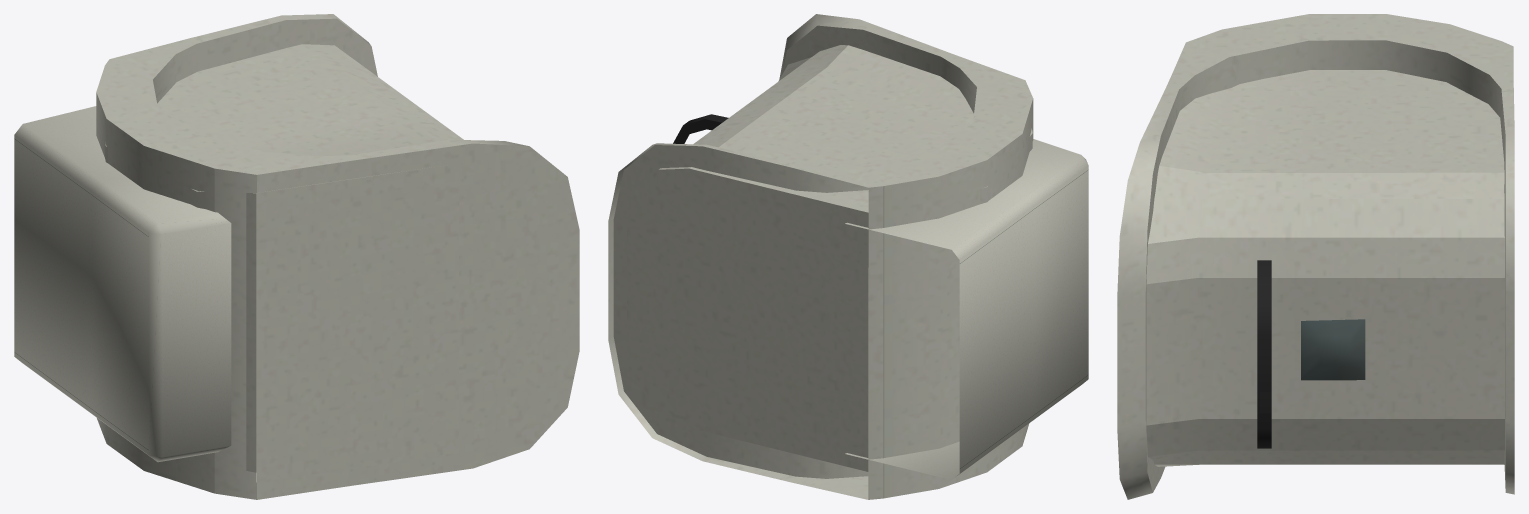
The model's file is nt_2020_robot_shed_LOD1.obj.
The picture shows the model from 3 angles, left to right: view 1: azimuth 30°, elevation 25°; view 2: azimuth 150°, elevation 25°; view 3: azimuth 270°, elevation 25°; orthographic projection. The views are drawn at different scales.
Parts seen in each view (by area): view 1: hjk_interior_plastic_tile; view 2: hjk_interior_plastic_tile, com_metal_chrome_trim; view 3: hjk_interior_plastic_tile, com_glass_clear, com_metal_chrome_trim.
Part boxes in pixels (left/top/right/bottom): hjk_interior_plastic_tile: left=14, top=14, right=579, bottom=499; hjk_interior_plastic_tile: left=608, top=14, right=1088, bottom=499; com_metal_chrome_trim: left=673, top=114, right=728, bottom=143; hjk_interior_plastic_tile: left=1117, top=14, right=1514, bottom=499; com_glass_clear: left=1301, top=319, right=1365, bottom=380; com_metal_chrome_trim: left=1257, top=260, right=1271, bottom=448.
Size of the model in its own units: 538 by 406 by 423.
